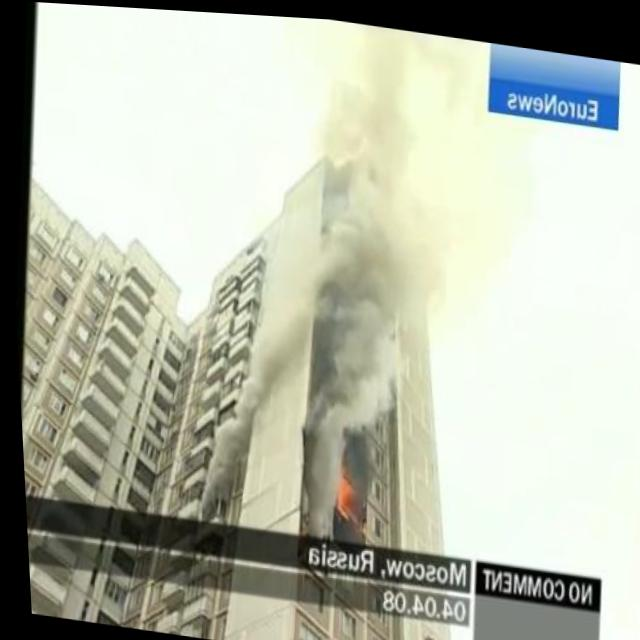fire: (327, 466, 356, 517)
